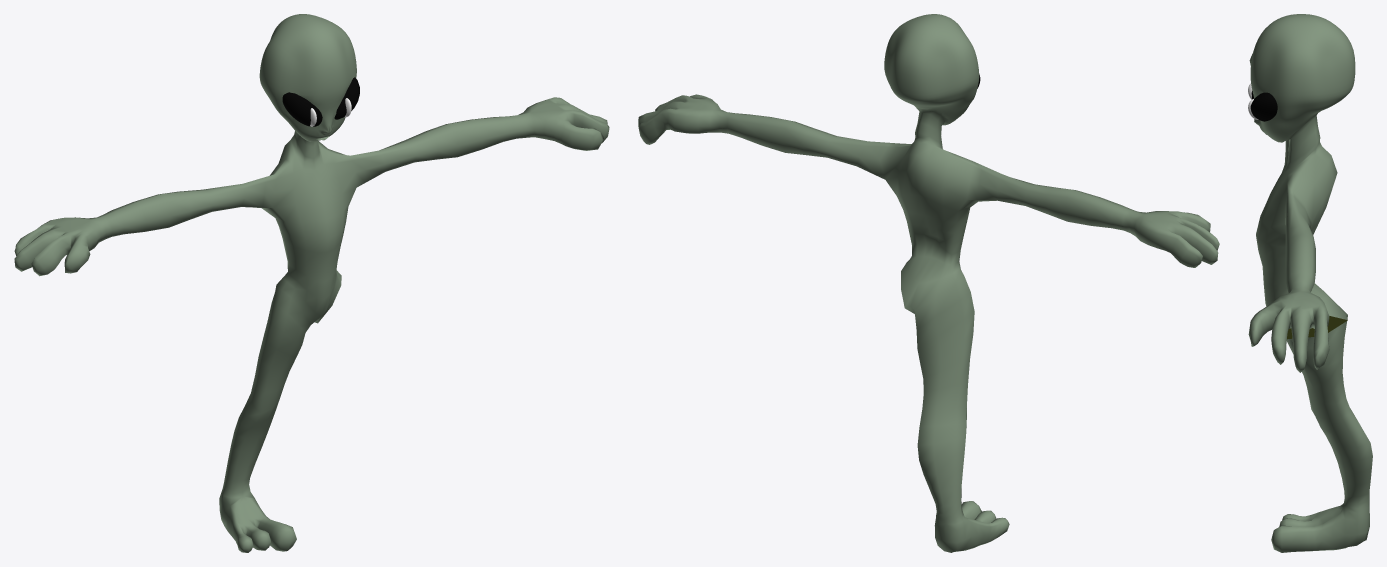
File: GreenNoLeg.fbx
The picture shows the model from 3 angles, left to right: view 1: azimuth 30°, elevation 25°; view 2: azimuth 150°, elevation 25°; view 3: azimuth 270°, elevation 25°; orthographic projection. The views are drawn at different scales.
Parts seen in each view (by area): view 1: polySurface2; view 2: polySurface2; view 3: polySurface2.
Part boxes in pixels (x1=…): polySurface2: x1=14, y1=14, x2=609, y2=552; polySurface2: x1=638, y1=14, x2=1219, y2=552; polySurface2: x1=1248, y1=14, x2=1372, y2=552.
Bounding box in the file's own units: 255 × 212 × 43.57.
